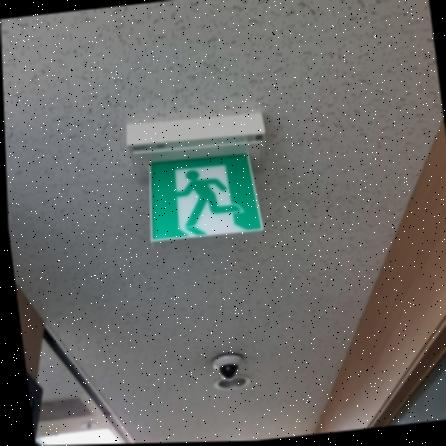emergency_exit: (148, 151, 264, 243)
